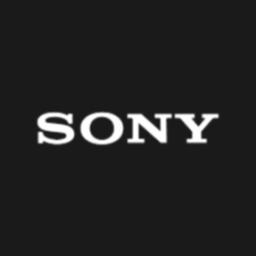n: (126, 110, 174, 146)
o: (79, 108, 127, 148)
s: (32, 106, 76, 150)
y: (174, 110, 224, 148)
